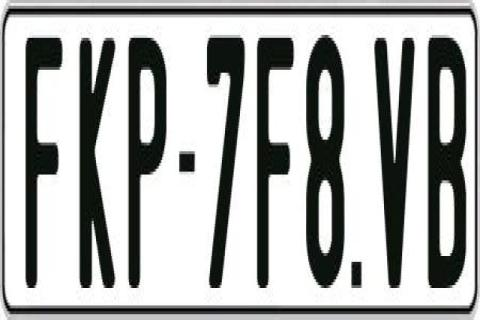0: (207, 29, 251, 279), (303, 35, 343, 297)
B: (427, 38, 462, 300)
F: (25, 35, 68, 297), (254, 38, 296, 302)
K: (79, 29, 116, 294)
P: (126, 32, 167, 288)
V: (374, 29, 420, 285)
